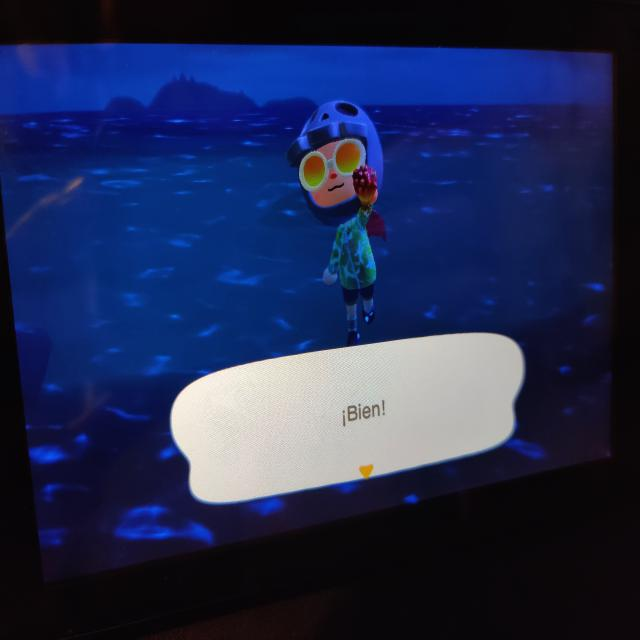text_bubble: (170, 327, 527, 508)
